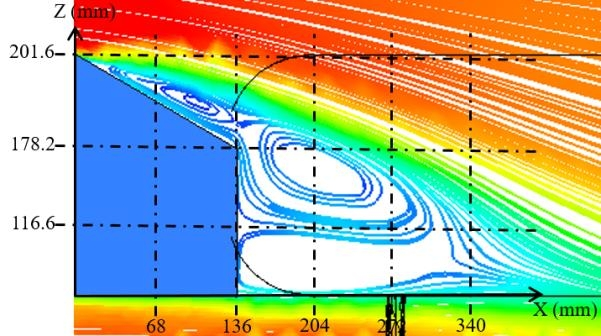vortox: (239, 124, 416, 229)
